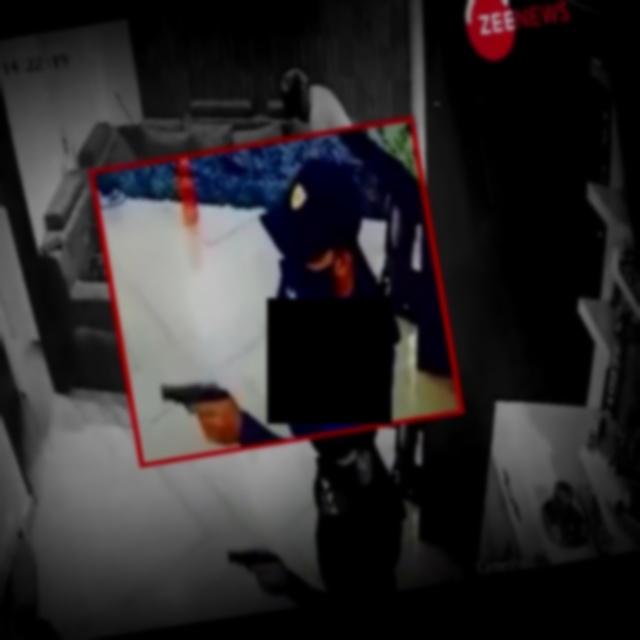gun: (154, 362, 239, 428)
